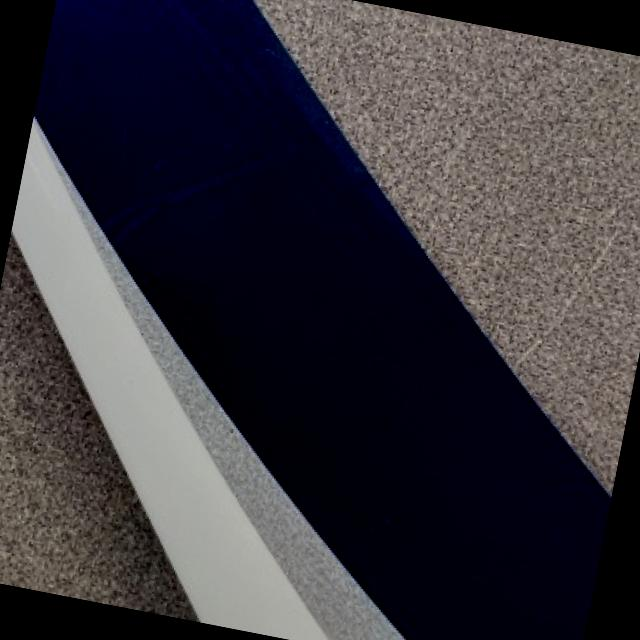healthy: (12, 0, 609, 640)
